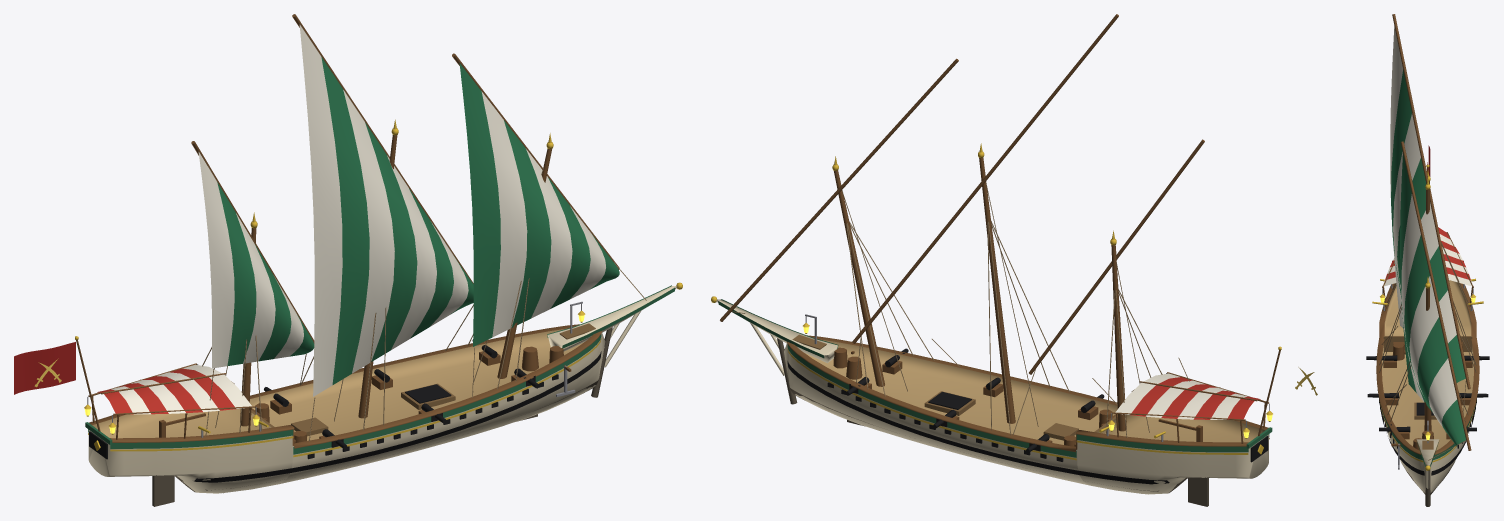
File: xebec-6c.glb
The picture shows the model from 3 angles, left to right: view 1: azimuth 30°, elevation 25°; view 2: azimuth 150°, elevation 25°; view 3: azimuth 270°, elevation 25°; orthographic projection. The views are drawn at different scales.
Parts seen in each view (by area): view 1: Mesh_Hull, Mesh_DeckAndBulwarks, Mesh_Sail_Main_Stripe7, Mesh_Sail_Main_Stripe6, Mesh_Sail_Fore_Stripe6, Mesh_Sail_Main_Stripe5, Mesh_Sail_Fore_Stripe5, Mesh_Sail_Mizzen_Stripe5, Mesh_Sail_Main_Stripe4, Mesh_Sail_Fore_Stripe4, Mesh_Sail_Mizzen_Stripe4, Mesh_RailCapS (+17 smaller); view 2: Mesh_Hull, Mesh_DeckAndBulwarks, Mesh_RailCapP, Mesh_Trim_BandP, Mesh_WaleP, Mesh_MainMast, Mesh_MainYard, Mesh_ForeMast, Mesh_ForeYard, Mesh_MizzenMast, Mesh_RailCapS, Mesh_MizzenYard (+4 smaller); view 3: Mesh_DeckAndBulwarks, Mesh_Sail_Fore_Stripe4, Mesh_Sail_Fore_Stripe2, Mesh_Sail_Main_Stripe6, Mesh_Sail_Fore_Stripe3, Mesh_MainYard, Mesh_Sail_Fore_Stripe5, Mesh_Sail_Main_Stripe5, Mesh_Hull, Mesh_Sail_Main_Stripe7, Mesh_ForeYard, Mesh_Sail_Fore_Stripe1 (+20 smaller).
Part boxes in pixels (x1,y1,x2,y2): Mesh_Hull: (88, 333, 605, 493); Mesh_DeckAndBulwarks: (92, 328, 583, 440); Mesh_Sail_Main_Stripe7: (299, 24, 342, 396); Mesh_Sail_Main_Stripe6: (321, 57, 369, 384); Mesh_Sail_Fore_Stripe6: (459, 63, 500, 346); Mesh_Sail_Main_Stripe5: (343, 90, 394, 373); Mesh_Sail_Fore_Stripe5: (481, 91, 527, 337); Mesh_Sail_Mizzen_Stripe5: (198, 152, 234, 368); Mesh_Sail_Main_Stripe4: (365, 122, 417, 361); Mesh_Sail_Fore_Stripe4: (504, 120, 551, 327); Mesh_Sail_Mizzen_Stripe4: (217, 182, 256, 365); Mesh_RailCapS: (110, 331, 601, 448); Mesh_Hull: (784, 344, 1268, 494); Mesh_DeckAndBulwarks: (805, 339, 1265, 444); Mesh_RailCapP: (787, 341, 1248, 452); Mesh_Trim_BandP: (787, 345, 1248, 457); Mesh_WaleP: (787, 361, 1169, 484); Mesh_MainMast: (979, 157, 1015, 423); Mesh_MainYard: (852, 14, 1118, 343); Mesh_ForeMast: (834, 170, 884, 386); Mesh_ForeYard: (720, 58, 958, 321); Mesh_MizzenMast: (1111, 245, 1126, 431); Mesh_RailCapS: (807, 335, 1268, 430); Mesh_MizzenYard: (1029, 139, 1204, 374); Mesh_DeckAndBulwarks: (1382, 280, 1473, 451); Mesh_Sail_Fore_Stripe4: (1404, 235, 1431, 410); Mesh_Sail_Fore_Stripe2: (1417, 317, 1447, 411); Mesh_Sail_Main_Stripe6: (1391, 69, 1411, 296); Mesh_Sail_Fore_Stripe3: (1409, 276, 1438, 395); Mesh_MainYard: (1392, 14, 1470, 389); Mesh_Sail_Fore_Stripe5: (1401, 194, 1423, 401); Mesh_Sail_Main_Stripe5: (1393, 113, 1420, 288); Mesh_Hull: (1381, 408, 1474, 494); Mesh_Sail_Main_Stripe7: (1390, 26, 1403, 328); Mesh_ForeYard: (1400, 141, 1471, 450); Mesh_Sail_Fore_Stripe1: (1428, 358, 1456, 426).
Size of the model in its own units: 32.7 by 22.51 by 6.74.
